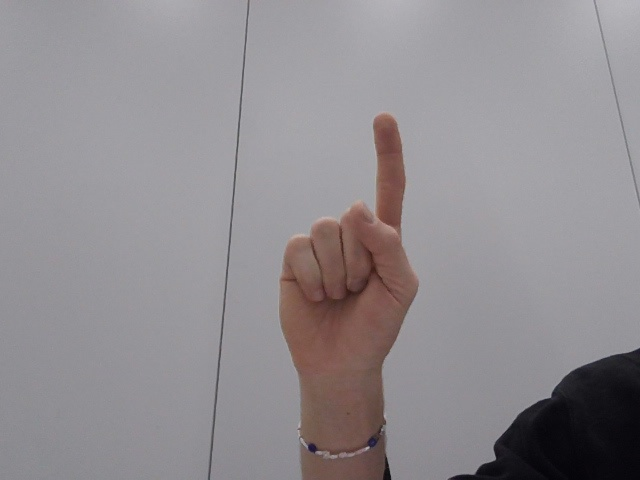up: (259, 98, 428, 425)
